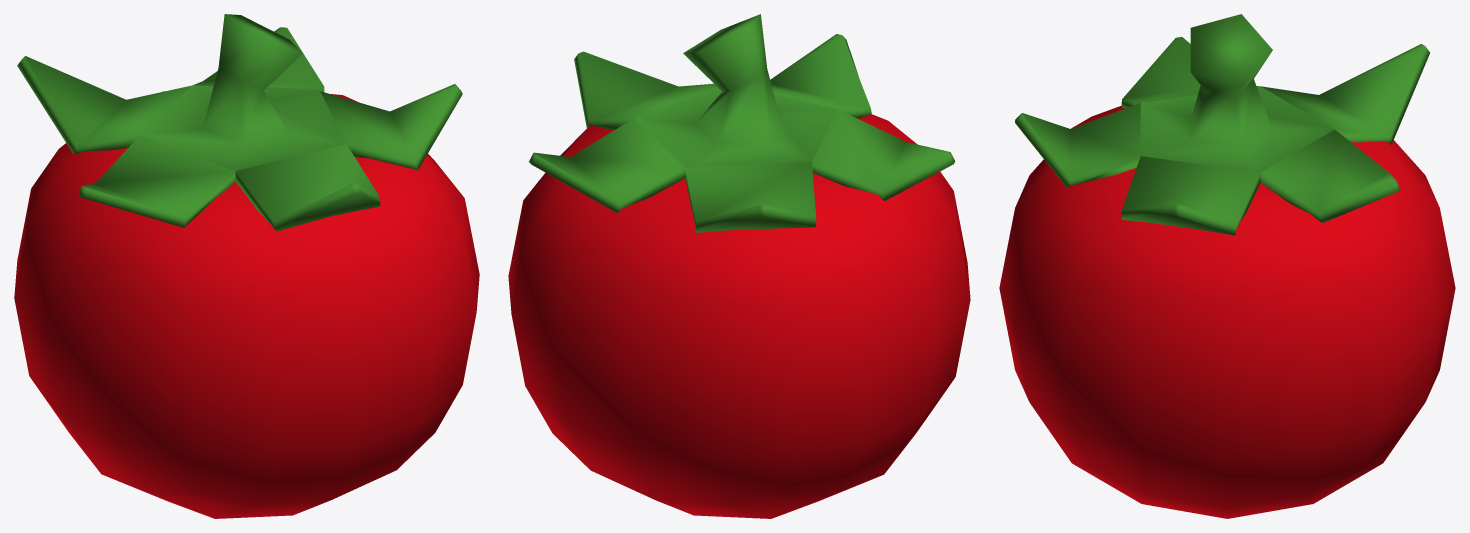
Rendered from Tomato.fbx.
3 renders of one model, left to right at view 1: azimuth 30°, elevation 25°; view 2: azimuth 150°, elevation 25°; view 3: azimuth 270°, elevation 25°, orthographic.
Parts seen in each view (by area): view 1: Cube, Circle; view 2: Cube, Circle; view 3: Cube, Circle.
Boxes of the visible parts, x1=… form: Cube: x1=14, y1=91, x2=479, y2=518; Circle: x1=17, y1=14, x2=462, y2=231; Cube: x1=508, y1=114, x2=970, y2=518; Circle: x1=529, y1=14, x2=955, y2=232; Cube: x1=999, y1=105, x2=1455, y2=518; Circle: x1=1015, y1=14, x2=1429, y2=235.
Bounding box in the file's own units: 168 × 192 × 168.
